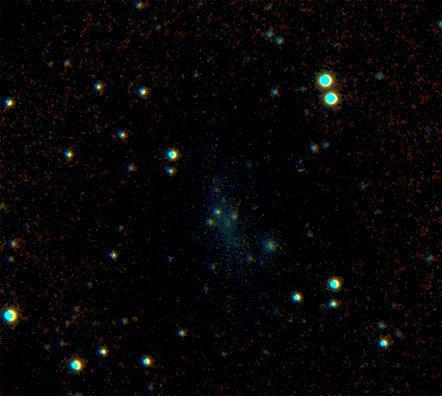star: (281, 148, 311, 178)
